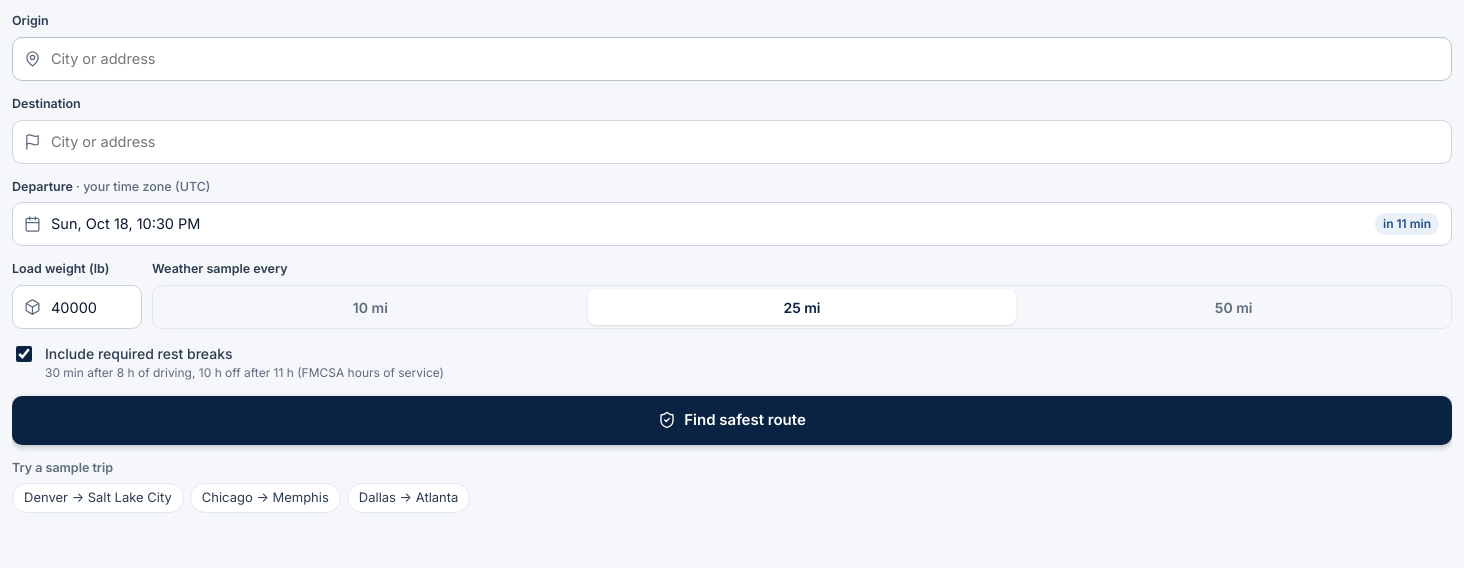
Test: TripForm › doesn't treat an empty load as 0 lb
Clear the number field labelled "Load weight (lb)": (77, 307) [12, 285, 142, 329]
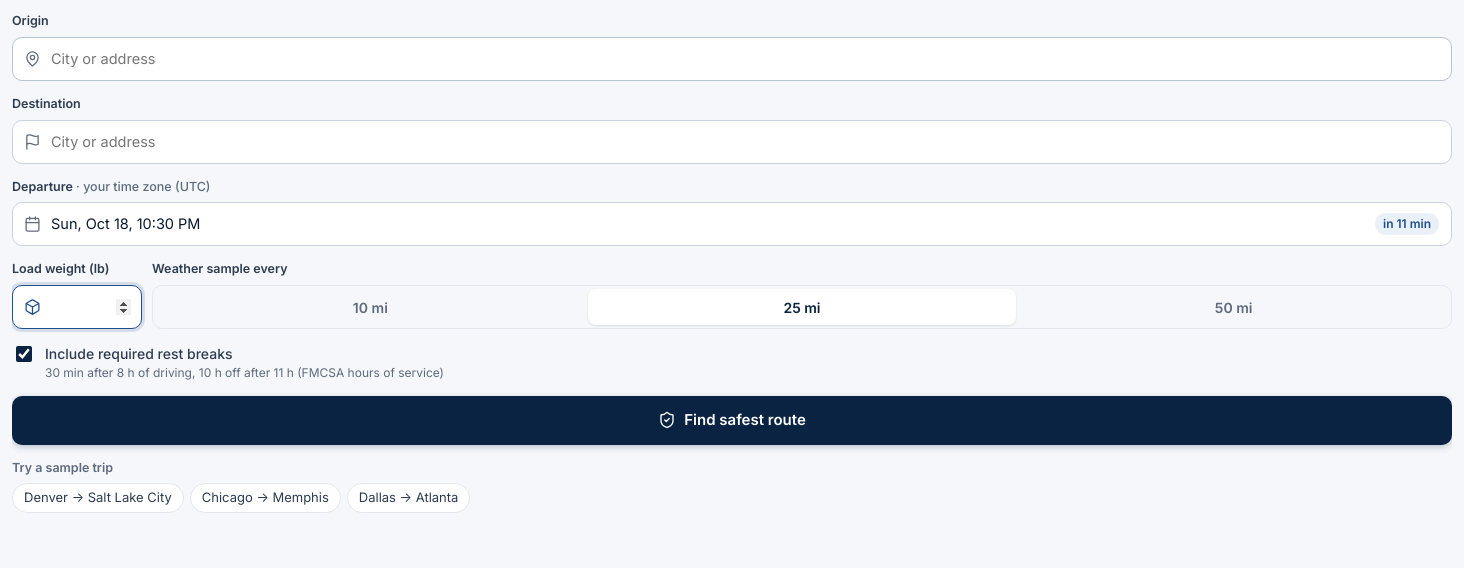
Click the button "Chicago → Memphis": click(265, 498) [190, 483, 341, 513]
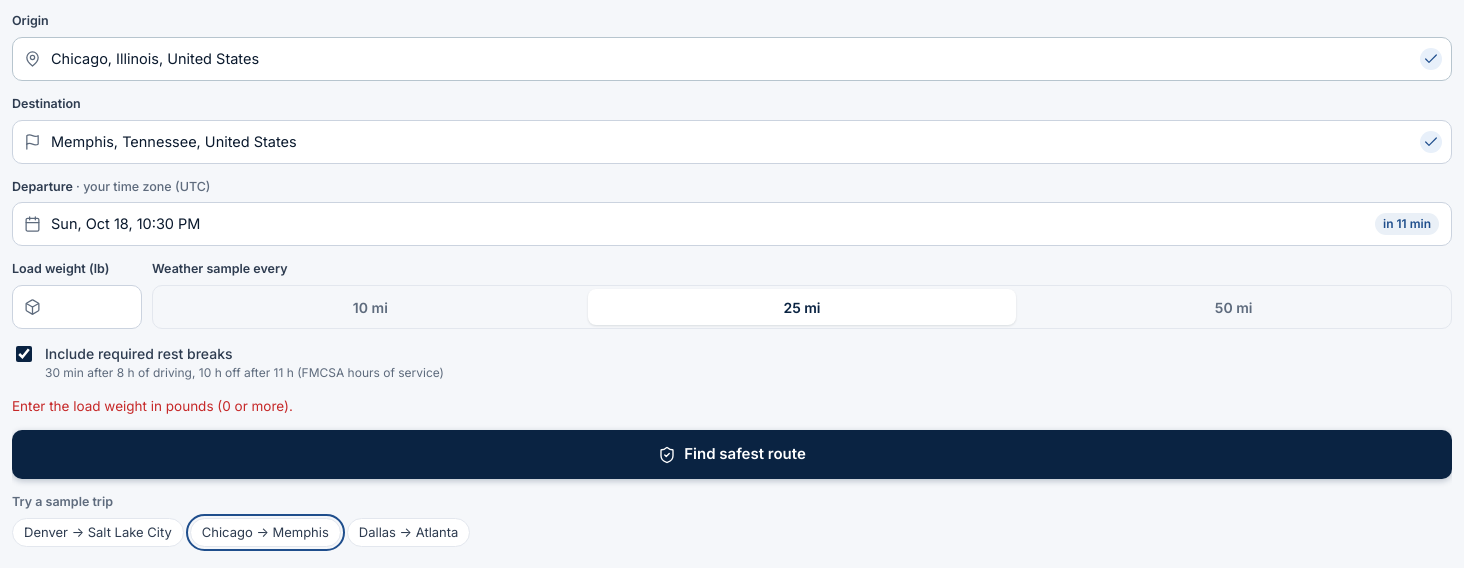
Expected: the text "Enter the load weight in pounds (0 or more)." is shown, [12, 398, 293, 414]
